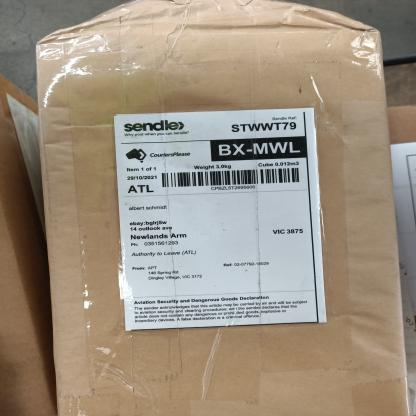label: (114, 115, 323, 330)
package: (32, 13, 410, 416)
